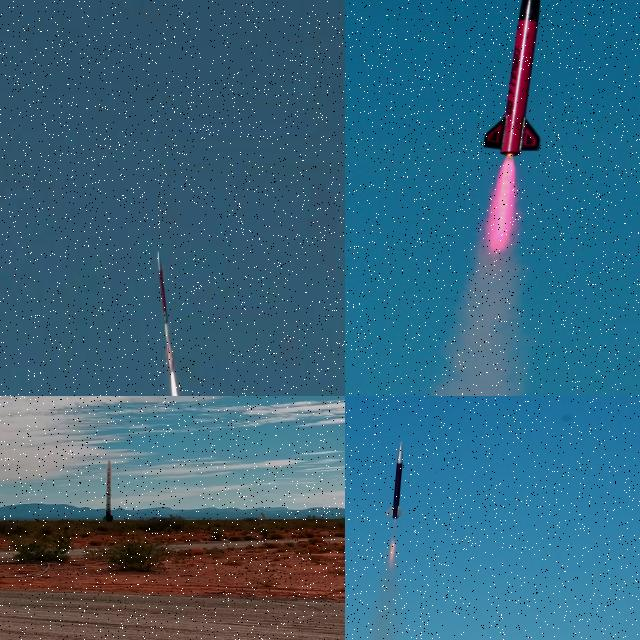Rocket: (481, 0, 544, 157), (157, 251, 175, 375), (381, 439, 407, 523), (102, 458, 114, 522)
